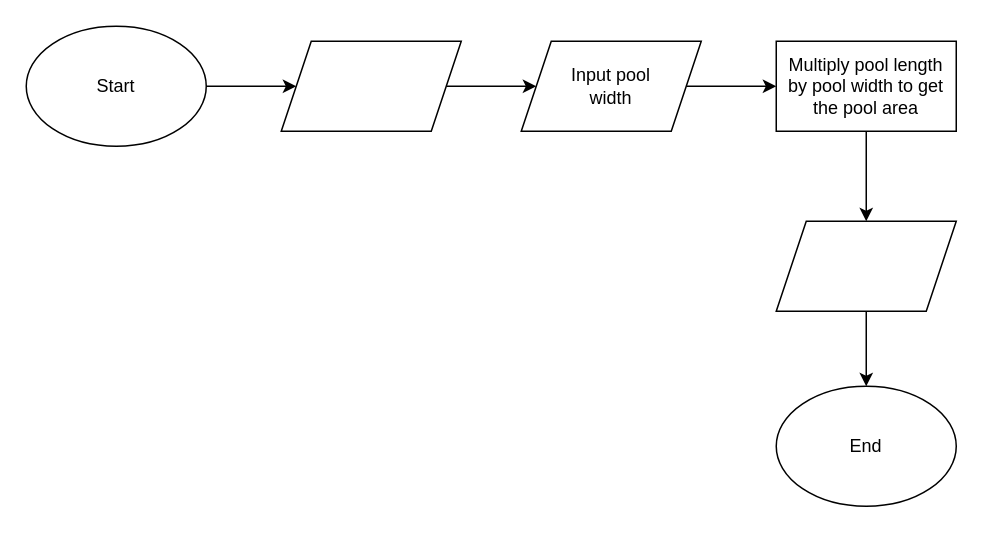
This 983x533 diagram has some shape labels left out. The shapes that lost their labels are listed below. From the top down, each one's centre as x and y in pixels, then its label:
At pixel 370 85: "Input pool length".
At pixel 865 265: "Display pool area".
